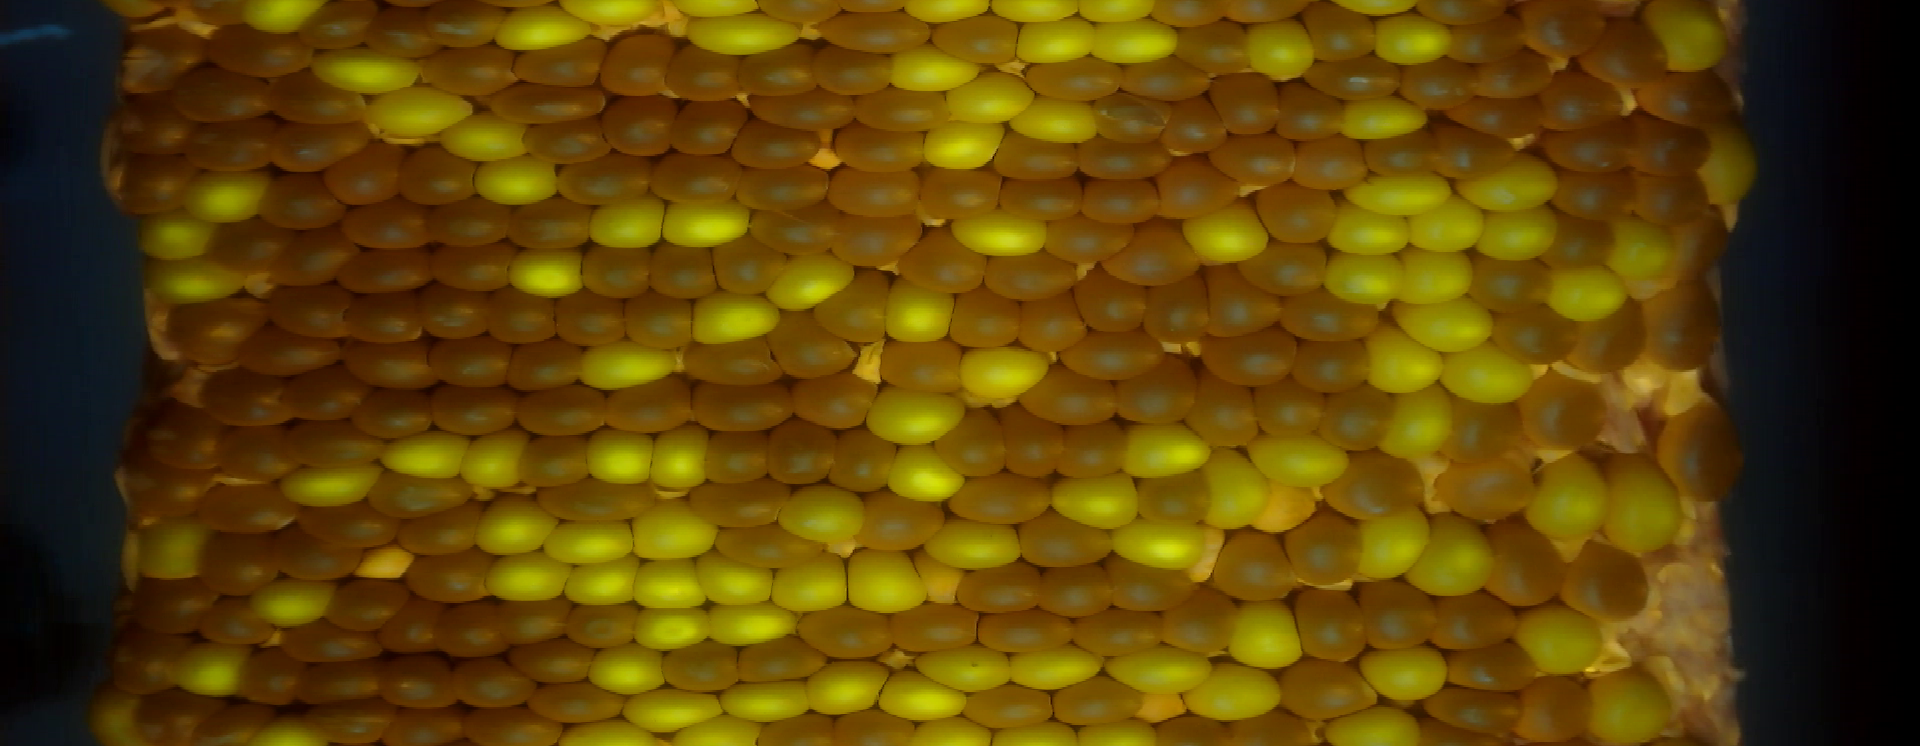fluorescent: (1605, 448, 1682, 562), (1524, 453, 1610, 540), (1452, 152, 1570, 213), (1414, 510, 1490, 600), (1511, 603, 1605, 670), (1640, 4, 1730, 73), (1581, 670, 1671, 740), (1347, 503, 1430, 579), (1180, 661, 1286, 722), (841, 541, 927, 615), (1438, 343, 1534, 407), (1224, 599, 1307, 674), (1100, 641, 1218, 692), (1178, 197, 1269, 265), (1374, 390, 1456, 463), (863, 386, 964, 446), (1048, 467, 1142, 529), (1359, 643, 1453, 706), (1392, 296, 1501, 350), (1364, 323, 1446, 394), (1337, 167, 1456, 214), (768, 551, 855, 616), (916, 639, 1014, 697), (1251, 430, 1349, 488), (1200, 446, 1267, 529), (1109, 513, 1209, 570), (872, 669, 969, 726), (769, 250, 858, 311), (1545, 260, 1631, 323), (774, 481, 864, 541), (1697, 119, 1757, 209), (924, 517, 1022, 572), (680, 12, 804, 55), (883, 273, 958, 344), (1118, 421, 1210, 479), (960, 343, 1049, 402), (880, 440, 967, 500), (629, 501, 718, 560), (949, 207, 1049, 258), (576, 338, 676, 390), (1367, 10, 1453, 69), (1395, 247, 1479, 307), (1318, 249, 1407, 305), (1476, 202, 1559, 262), (947, 69, 1038, 122), (688, 292, 780, 345), (313, 49, 422, 94), (377, 429, 470, 481), (803, 661, 891, 717), (1004, 646, 1108, 692), (546, 512, 633, 567), (360, 83, 471, 126), (184, 167, 272, 220), (478, 495, 558, 554), (890, 42, 984, 92), (585, 421, 656, 488), (1011, 97, 1108, 145), (583, 642, 669, 696), (718, 676, 812, 725), (133, 521, 208, 582), (698, 548, 774, 608), (1326, 205, 1411, 258), (278, 464, 381, 508), (631, 555, 709, 612), (1337, 89, 1427, 140), (621, 688, 722, 733), (1406, 200, 1487, 255), (704, 601, 800, 648), (458, 429, 529, 491), (171, 639, 250, 696), (246, 578, 340, 625), (584, 192, 664, 247), (1247, 17, 1315, 81), (143, 262, 251, 303), (482, 554, 573, 601), (923, 119, 1005, 171), (1087, 17, 1179, 64), (1607, 218, 1678, 278), (495, 2, 587, 48), (438, 111, 530, 157), (1011, 17, 1098, 65), (648, 423, 709, 490), (662, 197, 748, 245), (471, 157, 558, 203), (133, 211, 218, 258), (1324, 707, 1425, 746), (508, 247, 588, 296), (563, 557, 640, 608), (631, 608, 714, 649), (88, 687, 138, 746), (563, 1, 670, 28), (242, 1, 331, 32), (350, 543, 413, 582)
nonfluorescent: (1663, 401, 1750, 503), (1484, 517, 1571, 611), (1022, 361, 1127, 430), (1216, 530, 1303, 612), (767, 304, 858, 381), (1630, 65, 1736, 130), (1648, 284, 1727, 372), (1562, 541, 1651, 620), (1277, 510, 1367, 587), (1278, 658, 1382, 722), (187, 475, 300, 534), (1202, 327, 1304, 392), (116, 24, 208, 96), (1526, 375, 1614, 448), (1329, 457, 1430, 521), (691, 379, 803, 435), (1423, 684, 1531, 742), (1457, 247, 1556, 311), (1020, 507, 1123, 568), (340, 334, 444, 394), (1358, 581, 1441, 655), (1101, 225, 1196, 290), (1206, 258, 1281, 341), (1118, 360, 1207, 428), (174, 67, 273, 127), (531, 481, 662, 527), (1153, 158, 1243, 224), (283, 415, 389, 470), (793, 608, 898, 664), (1293, 588, 1367, 668), (206, 24, 313, 78), (201, 367, 298, 428), (861, 491, 958, 551), (414, 45, 527, 97), (1438, 461, 1540, 517), (400, 548, 500, 605), (1487, 304, 1576, 367), (1444, 398, 1528, 465), (948, 472, 1051, 527), (140, 394, 220, 464), (827, 160, 924, 218), (266, 71, 361, 130), (516, 381, 611, 440), (1037, 674, 1146, 725), (178, 118, 277, 174), (1629, 110, 1713, 176), (596, 379, 696, 435), (111, 454, 201, 517), (817, 10, 933, 58), (1538, 70, 1629, 131), (333, 197, 433, 252), (170, 298, 266, 355), (1570, 300, 1647, 371), (1518, 677, 1598, 746), (273, 120, 370, 176), (660, 638, 757, 695), (1543, 118, 1633, 178), (427, 330, 514, 392), (1253, 379, 1336, 443), (400, 140, 478, 209), (767, 415, 836, 492), (900, 227, 984, 290), (1258, 180, 1340, 245), (256, 171, 344, 232), (680, 341, 787, 390), (1427, 125, 1511, 187), (600, 94, 680, 160), (1281, 292, 1380, 344), (503, 334, 590, 394), (493, 81, 611, 125), (933, 414, 1011, 480), (394, 503, 482, 562), (1104, 555, 1193, 614), (1024, 54, 1127, 104), (686, 481, 791, 530), (484, 288, 564, 352), (958, 561, 1053, 615), (508, 44, 618, 91), (1240, 240, 1333, 295), (1206, 69, 1283, 135), (1293, 332, 1370, 398), (1593, 20, 1671, 85), (266, 282, 351, 341), (238, 325, 340, 374), (300, 502, 403, 551), (971, 608, 1076, 655), (416, 281, 498, 342), (793, 371, 877, 431), (273, 620, 383, 665), (556, 156, 658, 205), (1191, 379, 1262, 448), (1320, 390, 1393, 457), (1166, 597, 1251, 654), (1551, 164, 1633, 224), (431, 598, 508, 661), (753, 85, 858, 131), (984, 251, 1078, 304), (651, 148, 738, 205), (1547, 205, 1616, 274), (1080, 265, 1150, 334), (1431, 595, 1520, 650), (733, 635, 830, 685), (989, 131, 1084, 183), (737, 160, 831, 212), (880, 334, 961, 394), (1007, 401, 1067, 481), (1209, 135, 1300, 187), (197, 535, 283, 592), (1441, 92, 1544, 138), (830, 428, 901, 495), (890, 598, 981, 650), (364, 5, 444, 64), (1171, 18, 1251, 77), (280, 528, 361, 587), (730, 118, 827, 167), (716, 524, 827, 567), (527, 680, 631, 725), (328, 145, 407, 205), (1149, 271, 1216, 341), (1276, 78, 1347, 145), (556, 288, 629, 352), (1068, 334, 1171, 380), (508, 197, 593, 252), (206, 425, 290, 480), (923, 164, 1004, 222), (133, 577, 214, 635), (1300, 4, 1378, 64), (1284, 135, 1367, 191), (853, 85, 950, 132), (371, 467, 468, 514), (431, 387, 523, 437), (650, 240, 721, 305), (1630, 175, 1713, 230), (707, 238, 786, 295), (833, 212, 920, 265), (833, 122, 926, 171), (962, 682, 1056, 731), (200, 592, 280, 648), (818, 277, 888, 342), (371, 655, 453, 710), (698, 430, 776, 488), (507, 642, 604, 688), (624, 290, 698, 352), (928, 15, 1018, 65), (127, 687, 203, 746), (1303, 58, 1407, 100), (1527, 5, 1608, 60), (433, 243, 514, 298), (1038, 562, 1116, 620), (673, 96, 746, 157), (430, 198, 513, 251), (350, 387, 433, 440), (1074, 605, 1171, 650), (580, 243, 656, 300), (602, 32, 666, 100), (1078, 132, 1168, 180), (1398, 58, 1480, 110), (1134, 474, 1216, 527), (1018, 292, 1091, 350), (524, 118, 610, 168), (1051, 209, 1136, 260), (661, 44, 741, 98), (811, 45, 894, 97), (733, 45, 817, 97), (1363, 131, 1446, 183), (206, 218, 298, 265), (1078, 176, 1164, 225), (746, 207, 836, 254), (1444, 646, 1534, 692), (238, 647, 304, 710), (518, 434, 593, 490), (290, 364, 362, 421), (566, 594, 638, 652), (337, 250, 436, 292), (1093, 94, 1176, 145), (263, 236, 356, 281), (956, 290, 1022, 352), (1063, 423, 1131, 481), (496, 597, 574, 648), (338, 295, 420, 344), (998, 176, 1086, 222), (1446, 15, 1527, 64), (326, 582, 404, 632), (453, 658, 527, 710), (1161, 97, 1226, 156), (120, 100, 186, 158), (121, 160, 189, 217), (1474, 47, 1548, 97), (1676, 207, 1727, 281), (1124, 58, 1210, 100), (378, 600, 438, 660), (306, 1, 380, 50), (430, 1, 501, 51), (116, 637, 178, 695), (460, 710, 566, 744), (1234, 707, 1322, 746), (301, 661, 378, 706), (830, 706, 916, 745), (386, 707, 468, 746), (203, 691, 258, 746), (756, 710, 840, 746), (1156, 712, 1243, 746), (318, 704, 389, 746)
